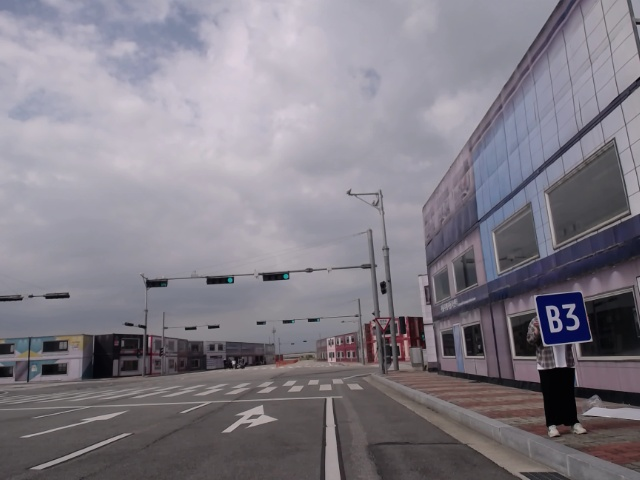delivery_b3: (533, 293, 596, 349)
straight_green_4: (203, 275, 237, 287), (260, 272, 293, 283), (280, 318, 298, 325), (307, 317, 322, 323)
